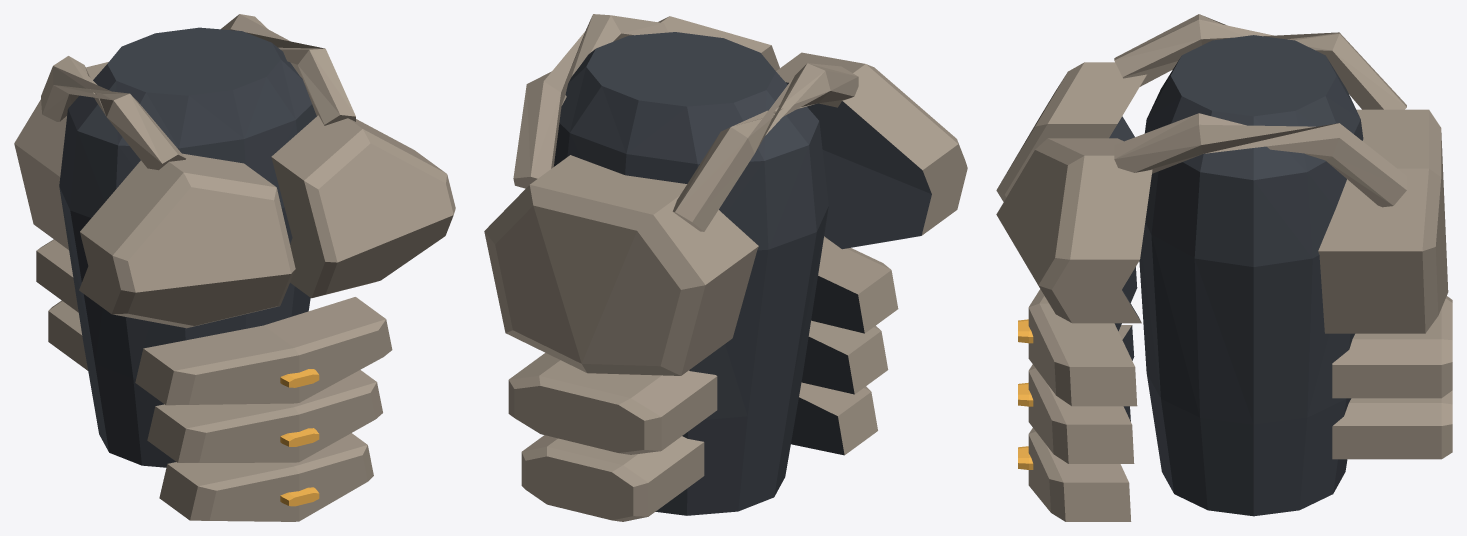
File: torso_medium.glb
3 views of the same model, side by side, from view 1: azimuth 30°, elevation 25°; view 2: azimuth 150°, elevation 25°; view 3: azimuth 270°, elevation 25° (orthographic). The views are drawn at different scales.
Parts seen in each view (by area): view 1: torso_medium; view 2: torso_medium; view 3: torso_medium.
Part boxes in pixels (x1,y1,x2,y2): torso_medium: [14, 14, 455, 521]; torso_medium: [484, 14, 967, 521]; torso_medium: [996, 14, 1452, 521].
Bounding box in the file's own units: 0.946 × 1.07 × 1.04.
